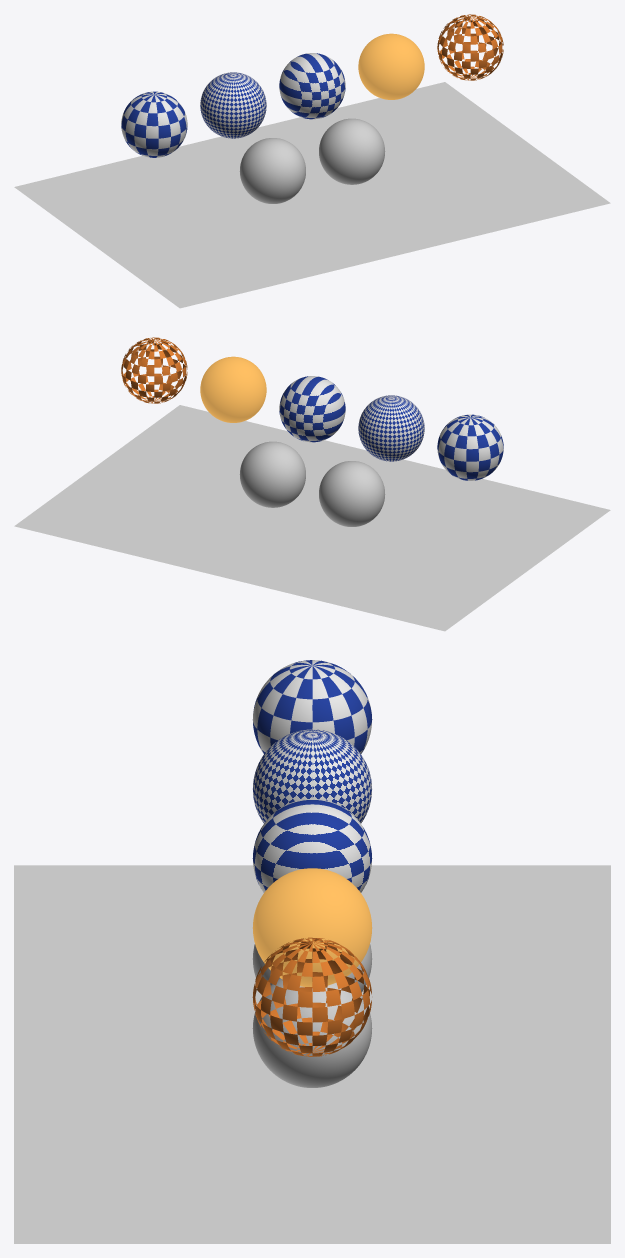
The model's file is texture_transforms_unlit.gltf.
3 renders of one model, top to bottom at view 1: azimuth 30°, elevation 25°; view 2: azimuth 150°, elevation 25°; view 3: azimuth 270°, elevation 25°, orthographic. The views are drawn at different scales.
Size of the model in its own units: 6 by 1.85 by 4.
Materials: 8 (4 with a texture image).
